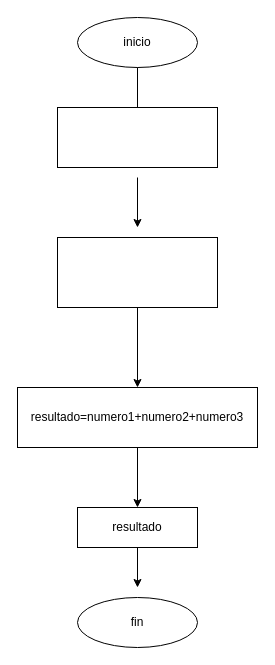
The diagram is 275 pixels wide and 665 high, and some of its shapes have lost their labels. Each missing label, with the centre of its shape:
"numero1(Int) numero2(int) numero3(int)" goes at pixel 137 137.
"numero1=10 numero2=30 numero3=50" goes at pixel 137 272.
